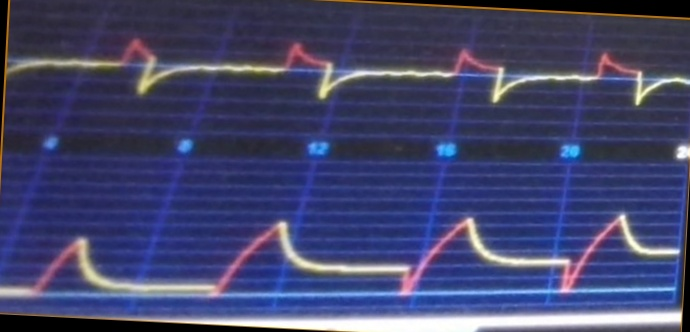Flow: (9, 24, 690, 123)
Leakage Volume: (3, 196, 679, 305)
